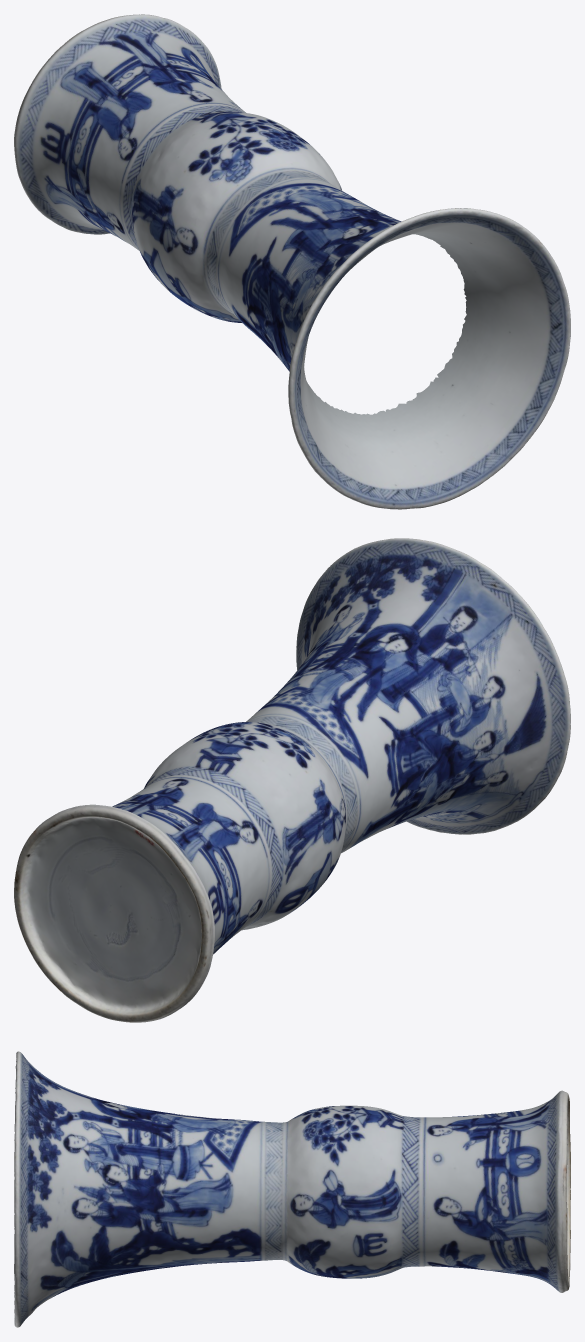
Rendered from preview.glb.
3 renders of one model, top to bottom at view 1: azimuth 30°, elevation 25°; view 2: azimuth 150°, elevation 25°; view 3: azimuth 270°, elevation 25°, orthographic. The views are drawn at different scales.
Bounding box in the file's own units: 0.2106 × 0.2109 × 0.4244.
Materials: 1 (1 with a texture image).
